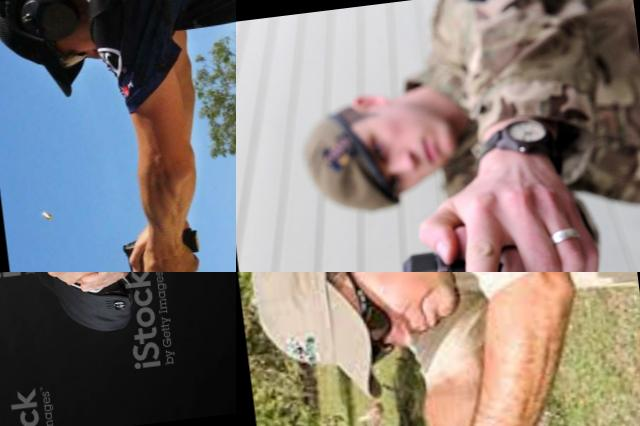handgun: (380, 234, 555, 272), (119, 220, 211, 272), (21, 272, 139, 300)
